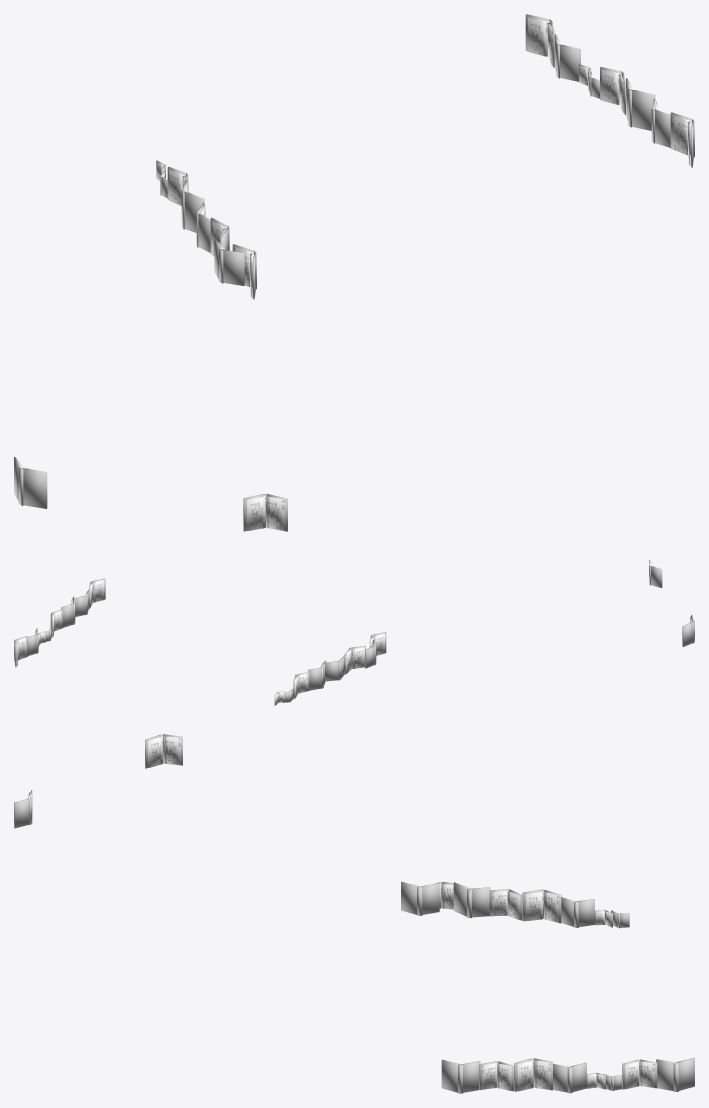
The model's file is non_ctf_mesh.glb.
The picture shows the model from 3 angles, top to bottom: view 1: azimuth 30°, elevation 25°; view 2: azimuth 150°, elevation 25°; view 3: azimuth 270°, elevation 25°; orthographic projection. The views are drawn at different scales.
Parts seen in each view (by area): view 1: ___, homework.jpg__; view 2: ___, homework.jpg__; view 3: ___, homework.jpg__.
Boxes of the visible parts, bbox=[...] form: ___: bbox=[14, 14, 694, 531]; homework.jpg__: bbox=[17, 17, 692, 530]; ___: bbox=[14, 560, 694, 705]; homework.jpg__: bbox=[15, 561, 692, 704]; ___: bbox=[14, 734, 694, 1093]; homework.jpg__: bbox=[27, 735, 683, 1091].
Size of the model in its own units: 115 by 4.79 by 100.
Materials: 2 (1 with a texture image).
